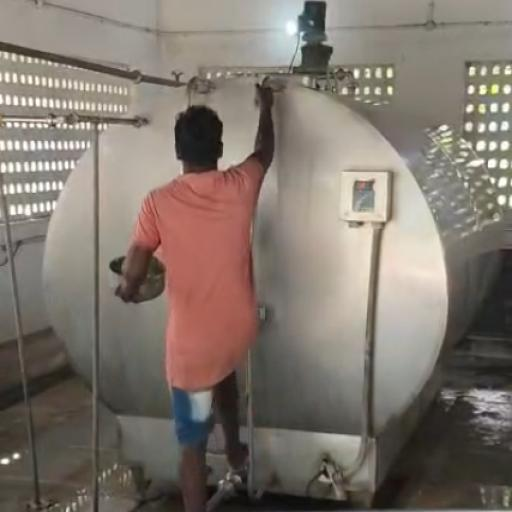silo: (40, 69, 506, 502)
vessel: (109, 254, 166, 302)
